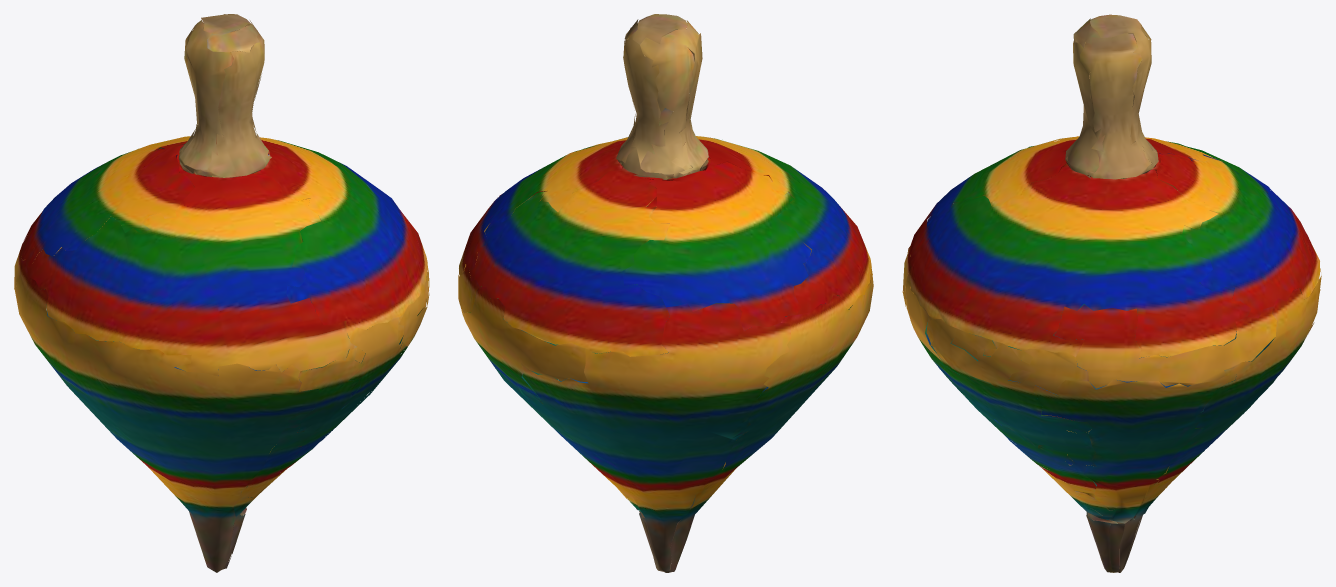
The model's file is kinder_kreisel.glb.
3 views of the same model, side by side, from view 1: azimuth 30°, elevation 25°; view 2: azimuth 150°, elevation 25°; view 3: azimuth 270°, elevation 25° (orthographic).
Parts seen in each view (by area): view 1: Prop; view 2: Prop; view 3: Prop.
Part boxes in pixels (x1=…): Prop: x1=14, y1=14, x2=429, y2=572; Prop: x1=458, y1=14, x2=873, y2=572; Prop: x1=902, y1=14, x2=1321, y2=572.
Size of the model in its own units: 0.6873 by 1 by 0.6908.
Materials: 1 (1 with a texture image).
